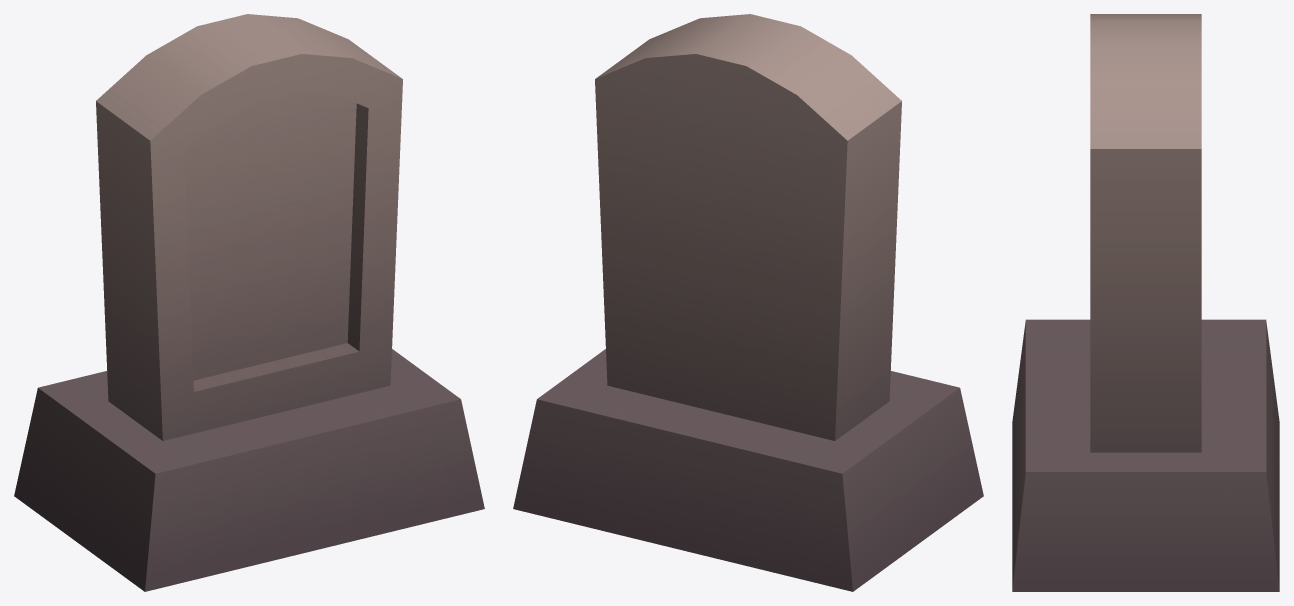
The model's file is tombstone2.glb.
The picture shows the model from 3 angles, left to right: view 1: azimuth 30°, elevation 25°; view 2: azimuth 150°, elevation 25°; view 3: azimuth 270°, elevation 25°; orthographic projection. The views are drawn at different scales.
Parts seen in each view (by area): view 1: tombstone2; view 2: tombstone2; view 3: tombstone2.
Part boxes in pixels (x1,y1,x2,y2): tombstone2: (14,14,484,591); tombstone2: (513,14,983,591); tombstone2: (1012,14,1279,591).
Bounding box in the file's own units: 0.6266 × 0.8145 × 0.4178.
1 material, 1 textured.
